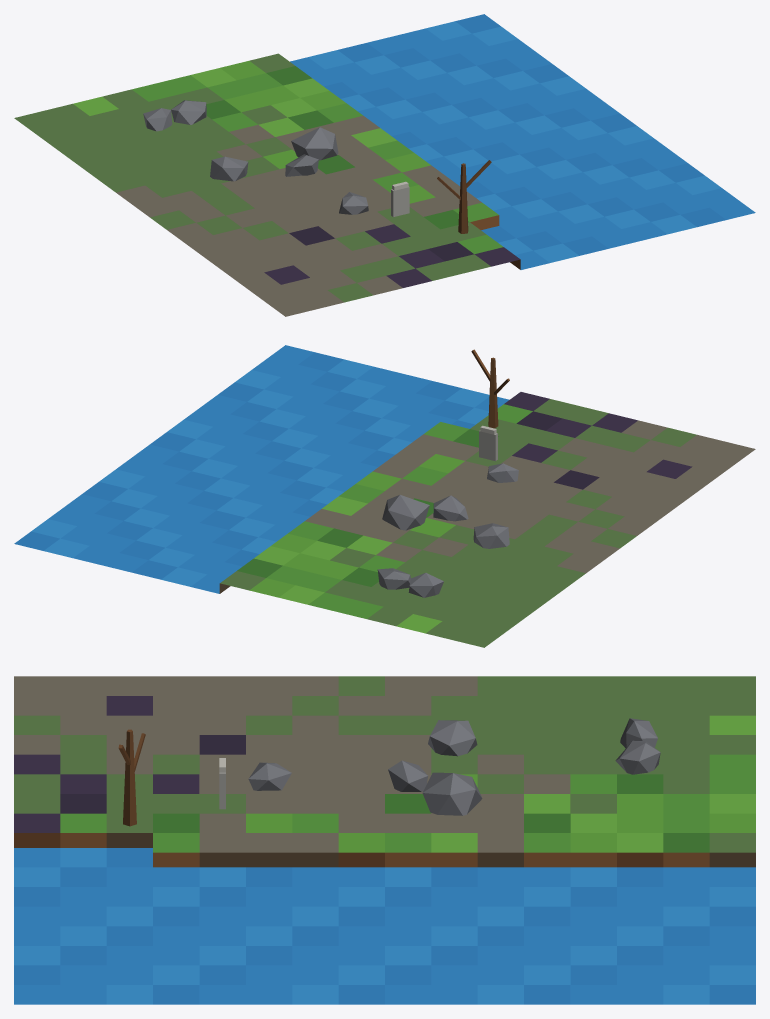
Rendered from chunk_3_22.glb.
3 views of the same model, one above another, from view 1: azimuth 30°, elevation 25°; view 2: azimuth 150°, elevation 25°; view 3: azimuth 270°, elevation 25° (orthographic). The views are drawn at different scales.
Parts seen in each view (by area): view 1: chunk_3_22; view 2: chunk_3_22; view 3: chunk_3_22.
Boxes of the visible parts, x1=… form: chunk_3_22: x1=14, y1=14, x2=755, y2=316; chunk_3_22: x1=14, y1=345, x2=755, y2=647; chunk_3_22: x1=14, y1=676, x2=755, y2=1004.
Bounding box in the file's own units: 16 × 2.63 × 16.
